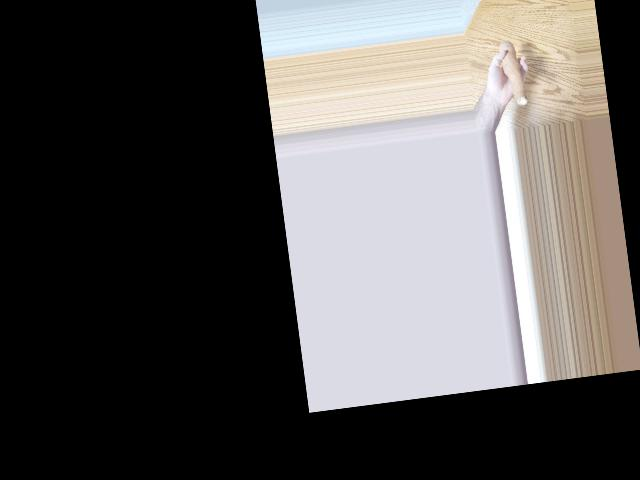sweet_potato: (498, 40, 525, 105)
